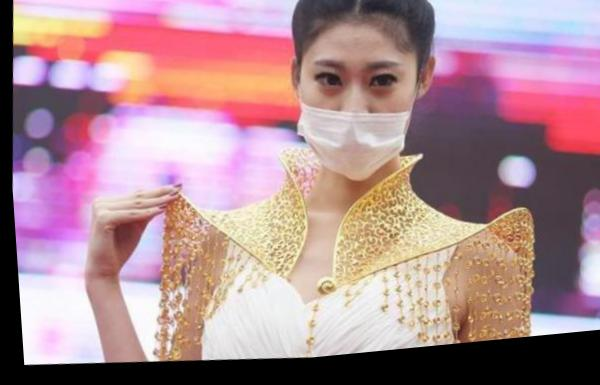WRONG: (288, 49, 423, 194)
